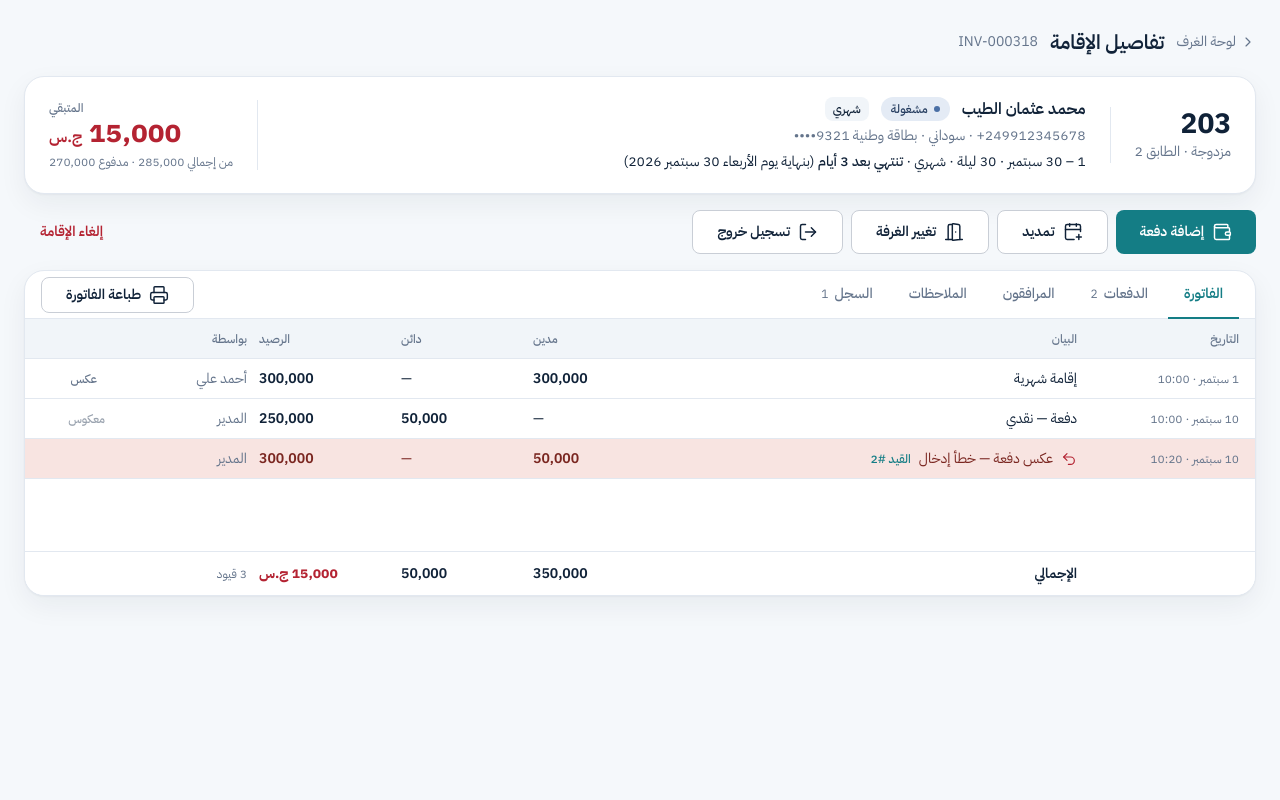
Test case: «عكس» a room charge asks for the manager when the server requires it
Check: the text "INV-000318" is shown, box [958,31,1038,53]
Check: the text "معكوس" is shown, box [68,410,105,428]
Click the button "عكس": (84, 378) [62,360,105,396]
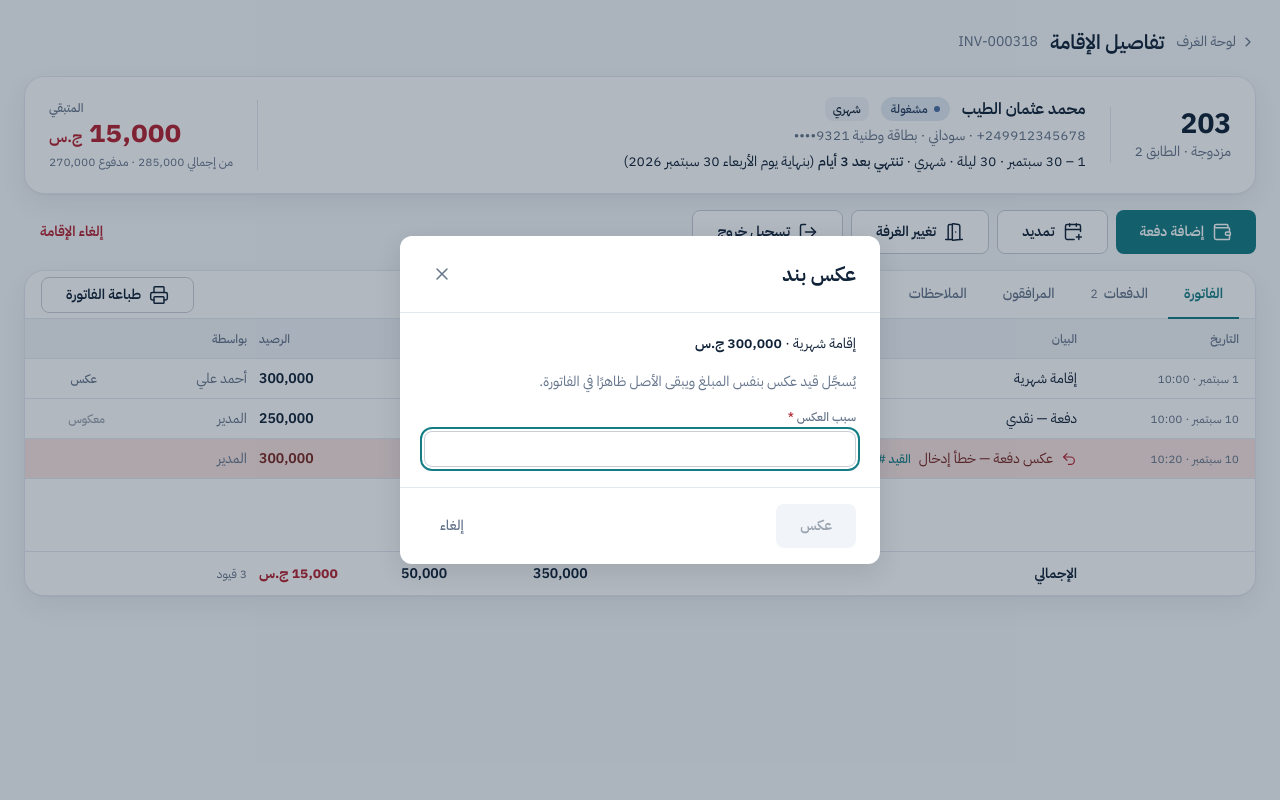
In the field labelled "سبب العكس *": (640, 449) [424,431,856,467], type "خطأ في السعر"
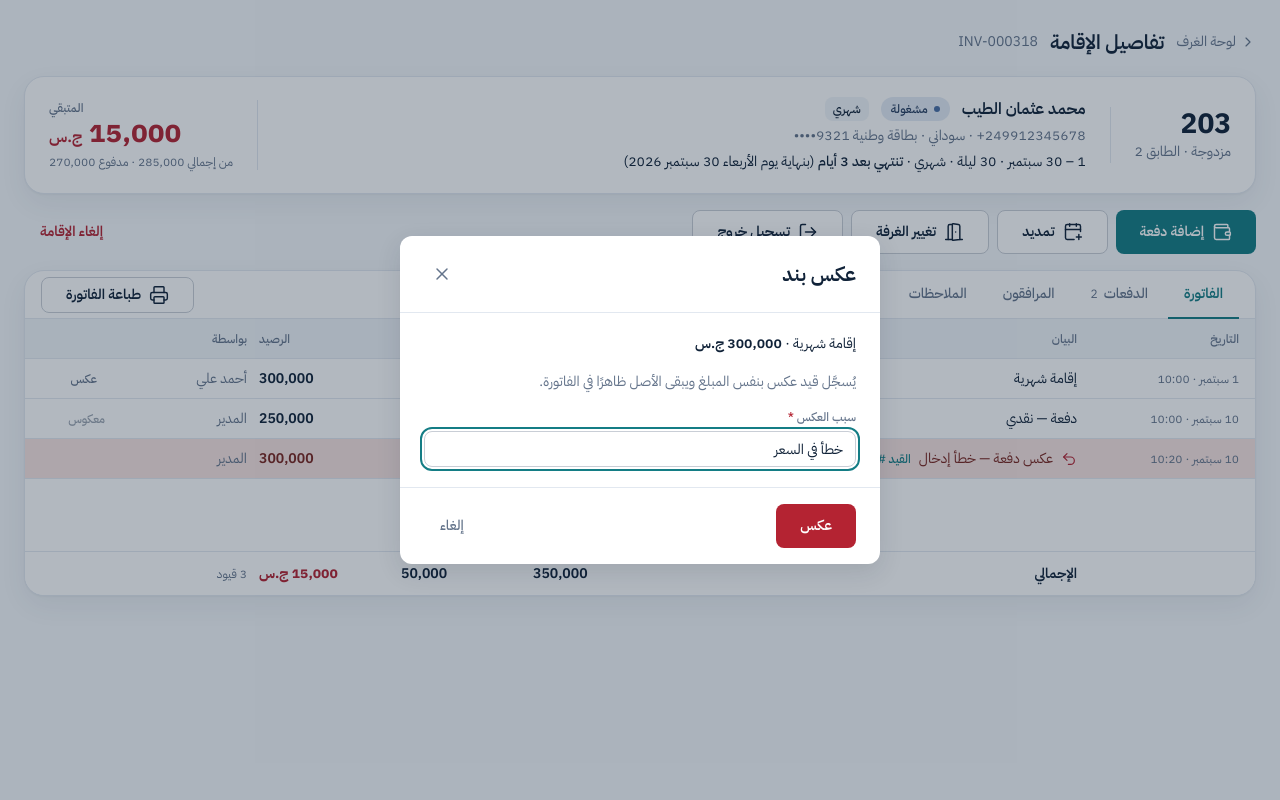
Click the button "عكس": (816, 526) [776,504,856,548]
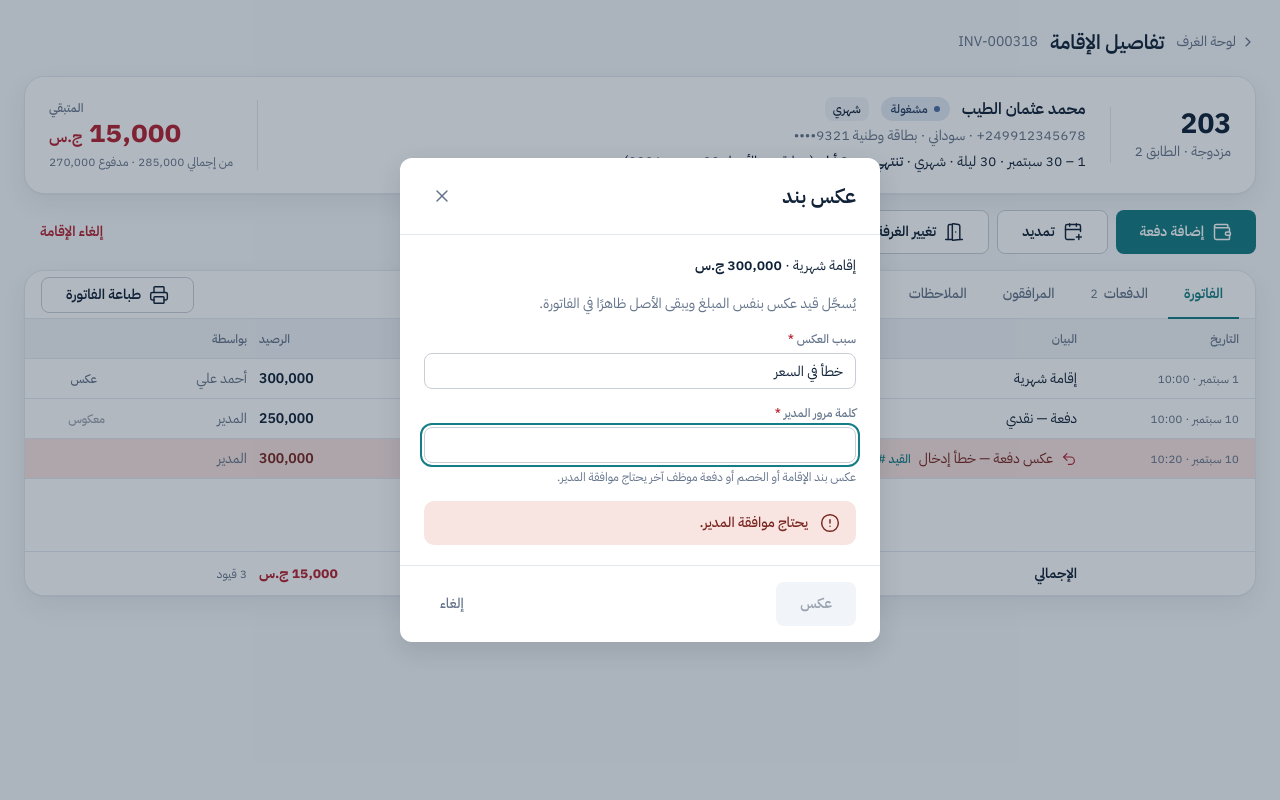
Check: the button "عكس" is disabled, box [776,582,856,626]
In the password field labelled "كلمة مرور المدير": (640, 445) [424,427,856,463], type "pw"
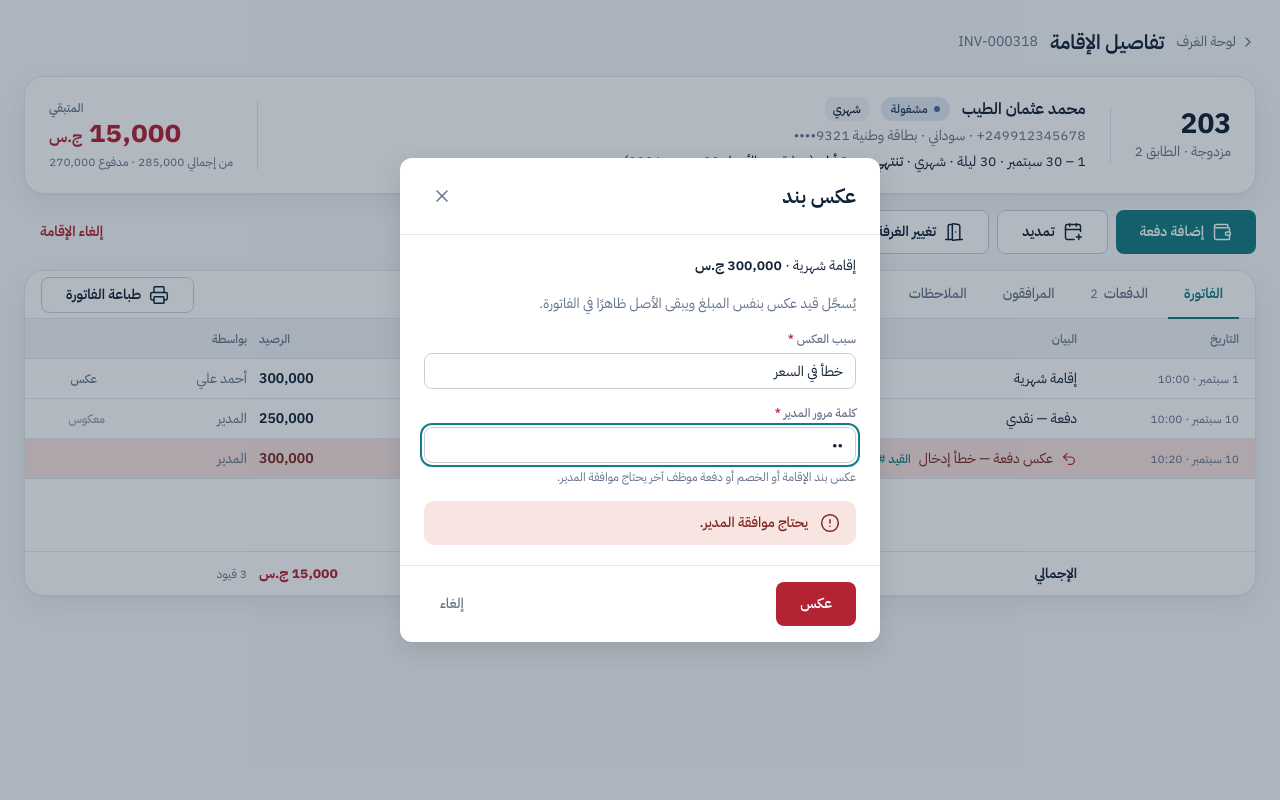
Click the button "عكس": (816, 604) [776,582,856,626]
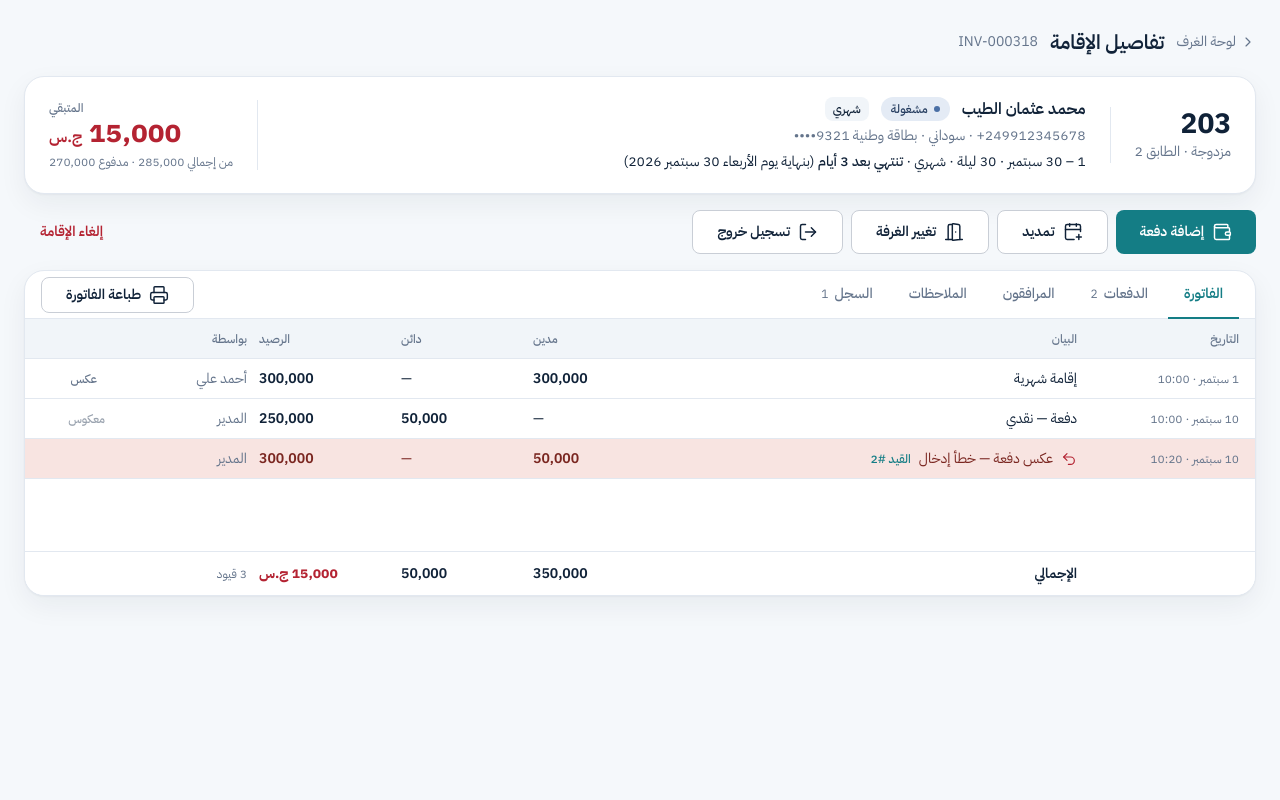
Check: the dialog is gone
